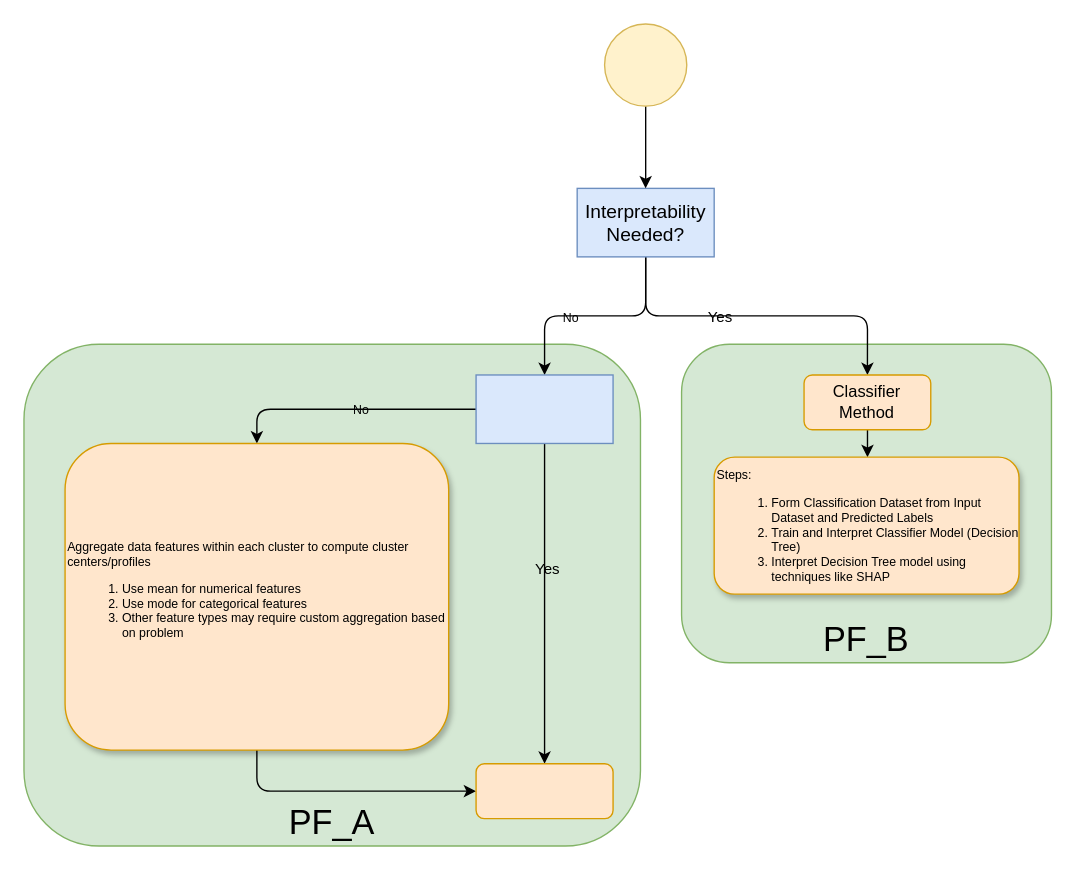
Some shapes in this 1075 by 870 pixel diagram are drawn without their labels. Each missing label, with the centre of its shape:
Cluster Centers provided by Training Algorithm?: (544,408)
Cluster Profiles: (544,790)
Start: (645,64)
